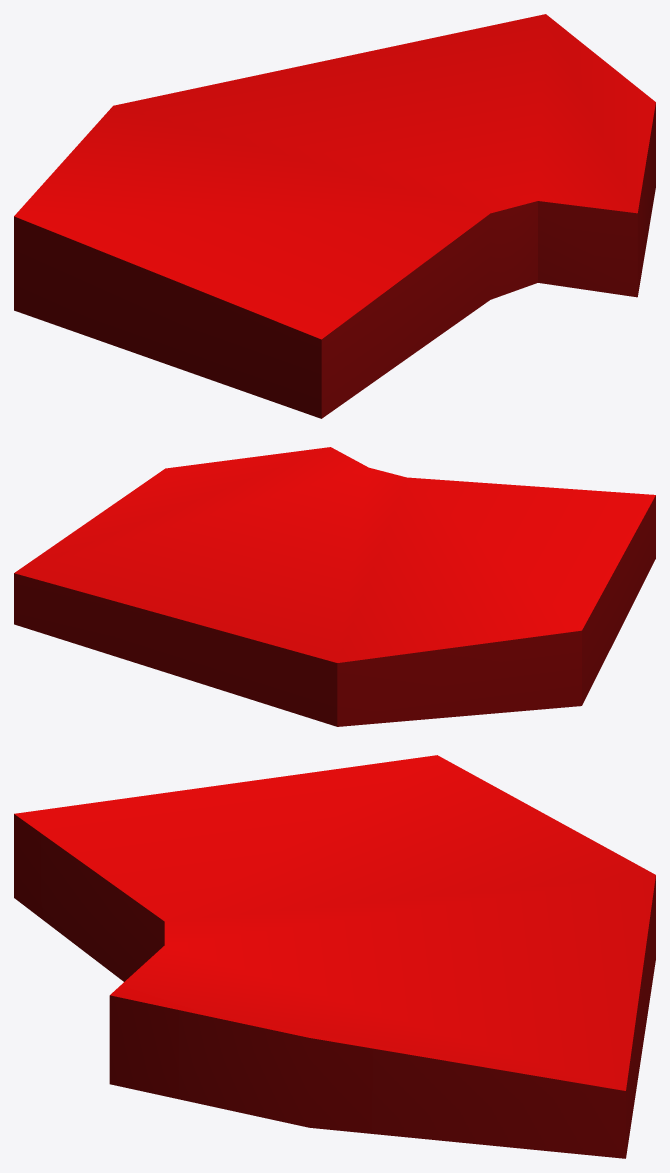
The model's file is geology-landforms-icedrift_v7.fbx.
3 renders of one model, top to bottom at view 1: azimuth 30°, elevation 25°; view 2: azimuth 150°, elevation 25°; view 3: azimuth 270°, elevation 25°, orthographic. The views are drawn at different scales.
Visible parts, largest first — view 1: IceDrift_v7; view 2: IceDrift_v7; view 3: IceDrift_v7.
Boxes of the visible parts, left/top/right/bottom form: IceDrift_v7: left=14, top=14, right=655, bottom=418; IceDrift_v7: left=14, top=447, right=655, bottom=726; IceDrift_v7: left=14, top=755, right=655, bottom=1158.
Bounding box in the file's own units: 2.62 × 0.4464 × 2.22.
